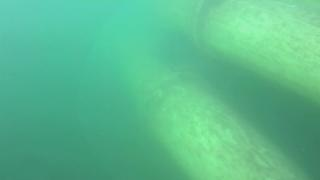pipe: (92, 34, 309, 180), (155, 1, 320, 108)
